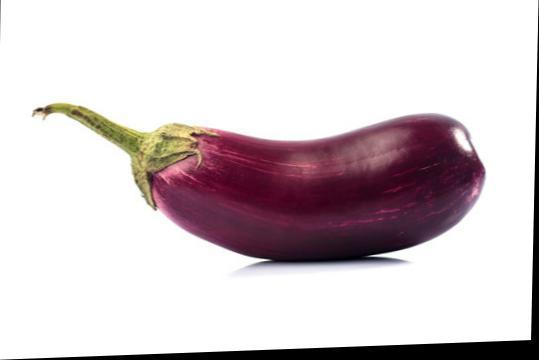eggplant: (100, 77, 502, 280)
